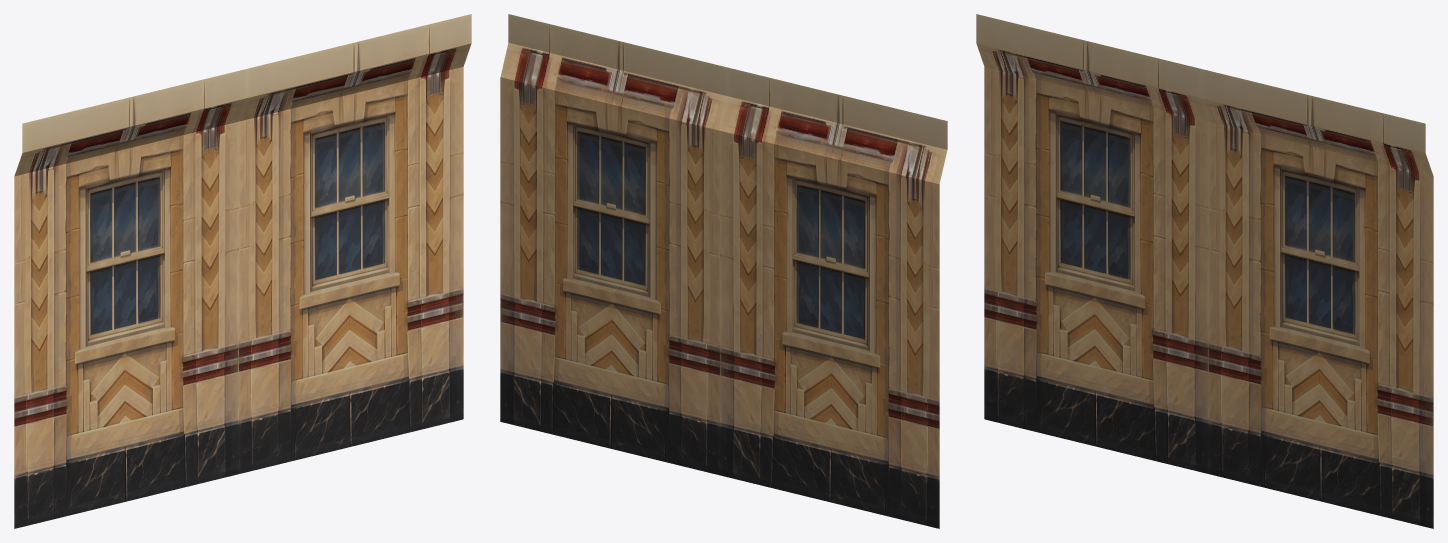
Rendered from DECO_U_Bay4B.fbx.
The picture shows the model from 3 angles, left to right: view 1: azimuth 30°, elevation 25°; view 2: azimuth 150°, elevation 25°; view 3: azimuth 330°, elevation 25°; orthographic projection. The views are drawn at different scales.
Visible parts, largest first — view 1: DECO_U_Bay4B; view 2: DECO_U_Bay4B; view 3: DECO_U_Bay4B.
Part boxes in pixels (x1,y1,x2,y2): DECO_U_Bay4B: [14, 14, 471, 528]; DECO_U_Bay4B: [500, 14, 947, 528]; DECO_U_Bay4B: [976, 14, 1433, 528].
Size of the model in its own units: 4 by 0.125 by 3.5.
1 material, 1 textured.
